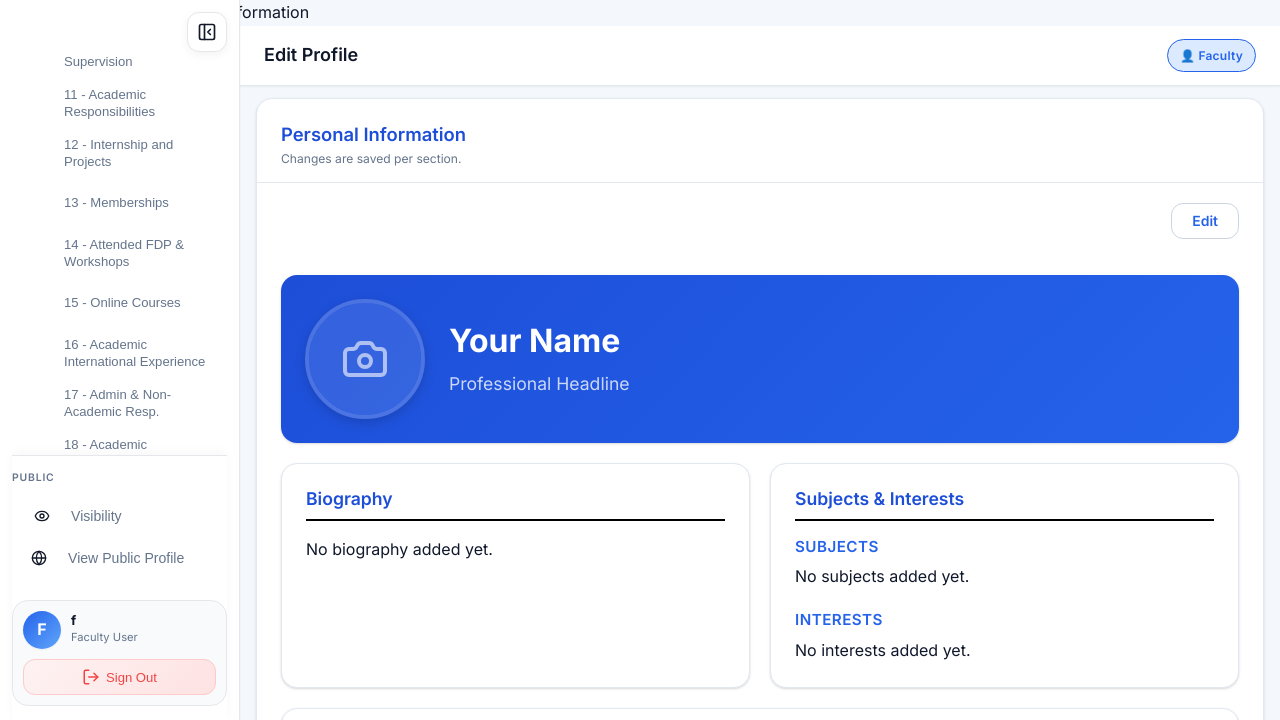
Test: Faculty Profile Edit sidebar numbering › clicking "14 - Attended FDP & Workshops" navigates to /faculty/profile/edit/fdp-workshops and opens that section
(page scrolled)
Click the button "14 - Attended FDP & Workshops".
click(118, 254)  # box [12, 232, 225, 276]
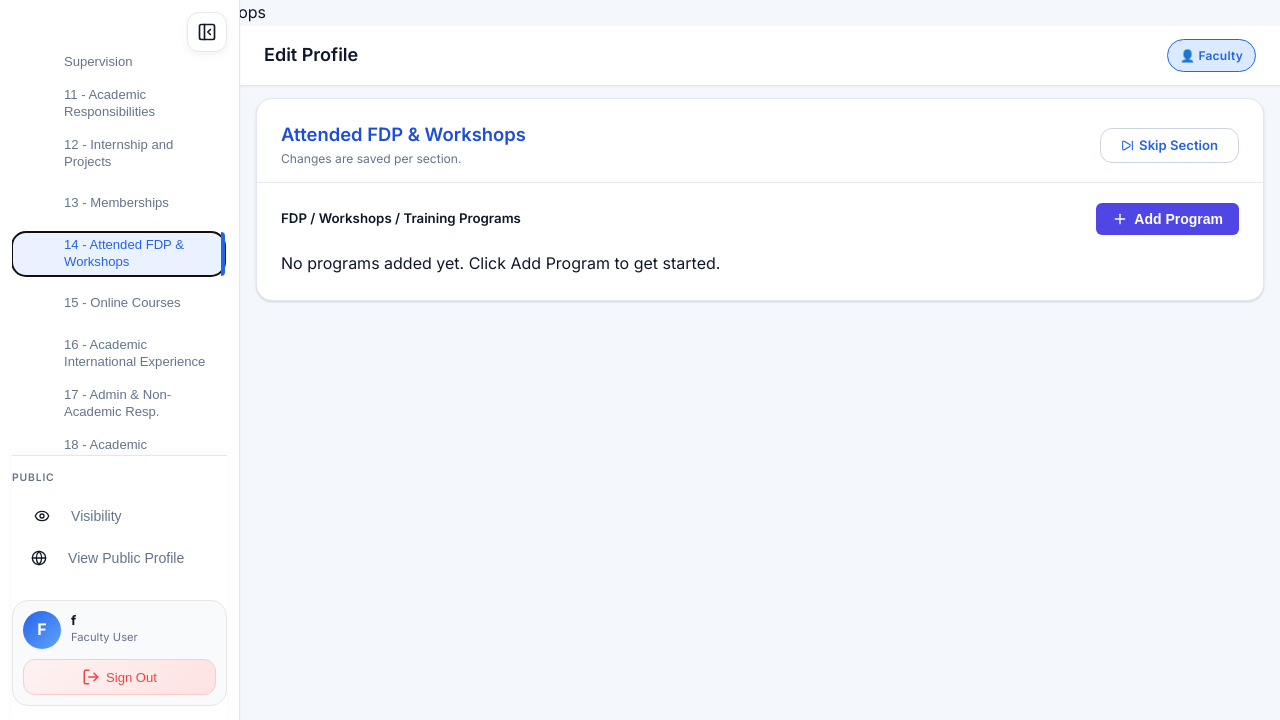
Result: the text with test id "path" reads "/faculty/profile/edit/fdp-workshops" at [0, 2, 266, 22]
Result: the heading "Attended FDP & Workshops" is shown at [281, 123, 526, 146]
